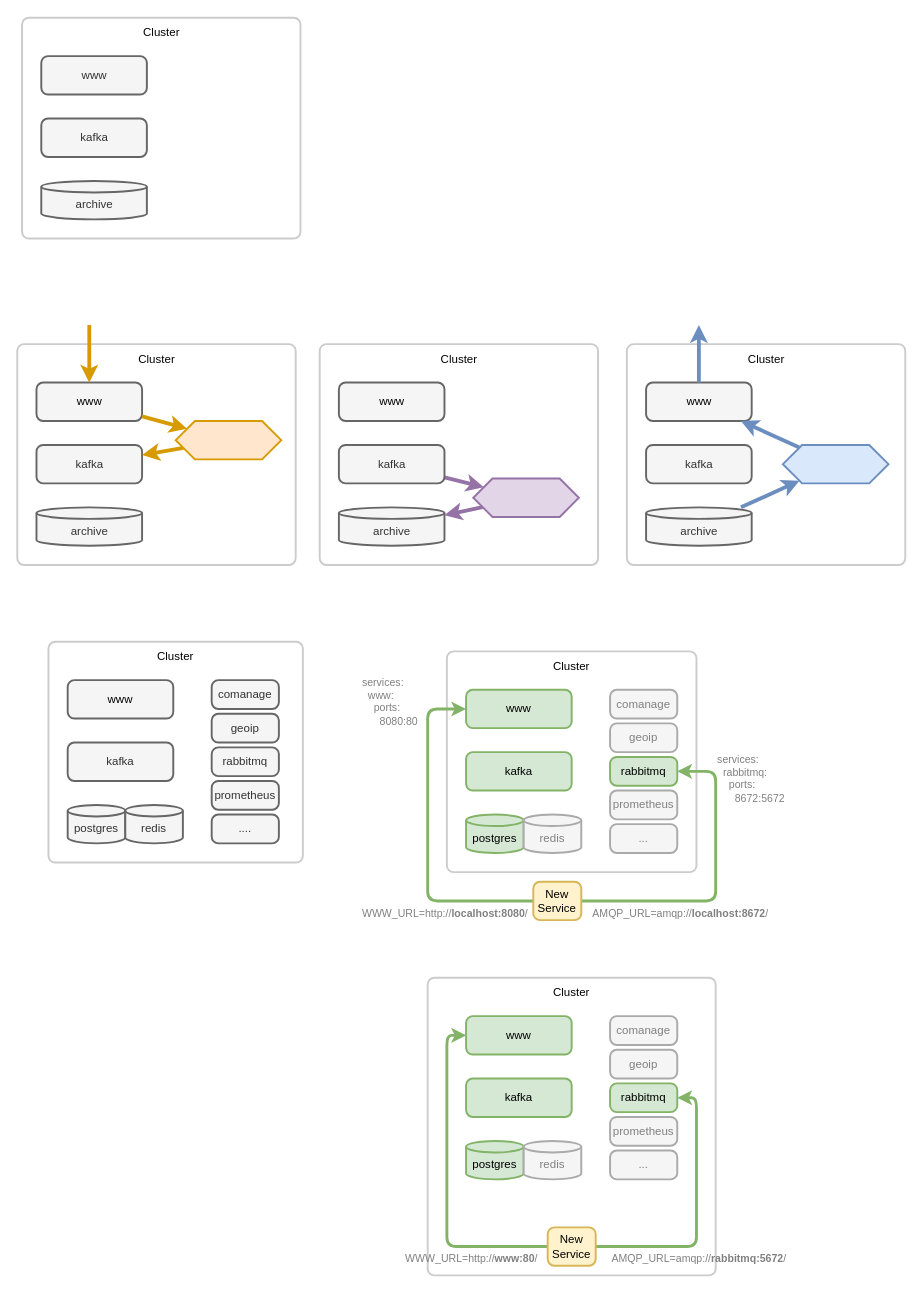
The diagram is 923 pixels wide and 1292 high, and some of its shapes have lost their labels. Here are the shapes that lost their labels. From the top down, the box of each, then its label:
(174, 420, 282, 460): collector
(781, 444, 889, 484): distributor
(472, 477, 579, 517): archiver
